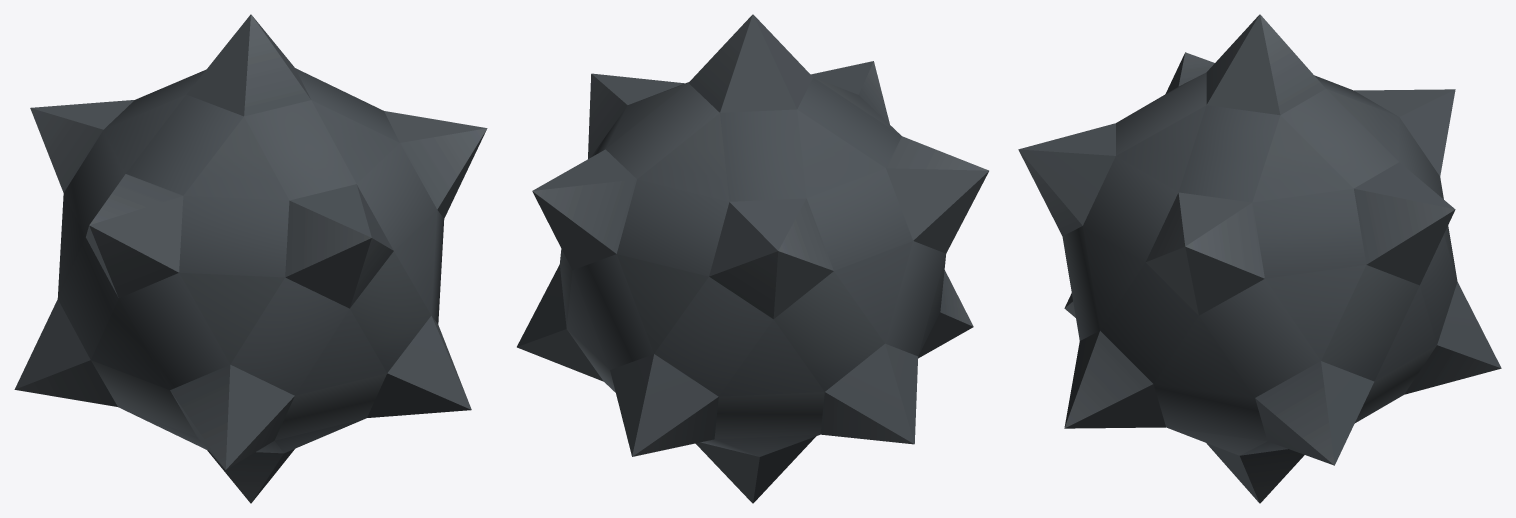
Rendered from kaykit-medieval-hexagon-pack-projectile-catapult.glb.
The picture shows the model from 3 angles, left to right: view 1: azimuth 30°, elevation 25°; view 2: azimuth 150°, elevation 25°; view 3: azimuth 270°, elevation 25°; orthographic projection.
Parts seen in each view (by area): view 1: projectile_catapult; view 2: projectile_catapult; view 3: projectile_catapult.
Boxes of the visible parts, x1,y1,x2,y2 form: projectile_catapult: (14, 14, 487, 503); projectile_catapult: (517, 14, 988, 503); projectile_catapult: (1018, 14, 1501, 503).
Size of the model in its own units: 0.2405 by 0.2827 by 0.2528.
1 material, 1 textured.
